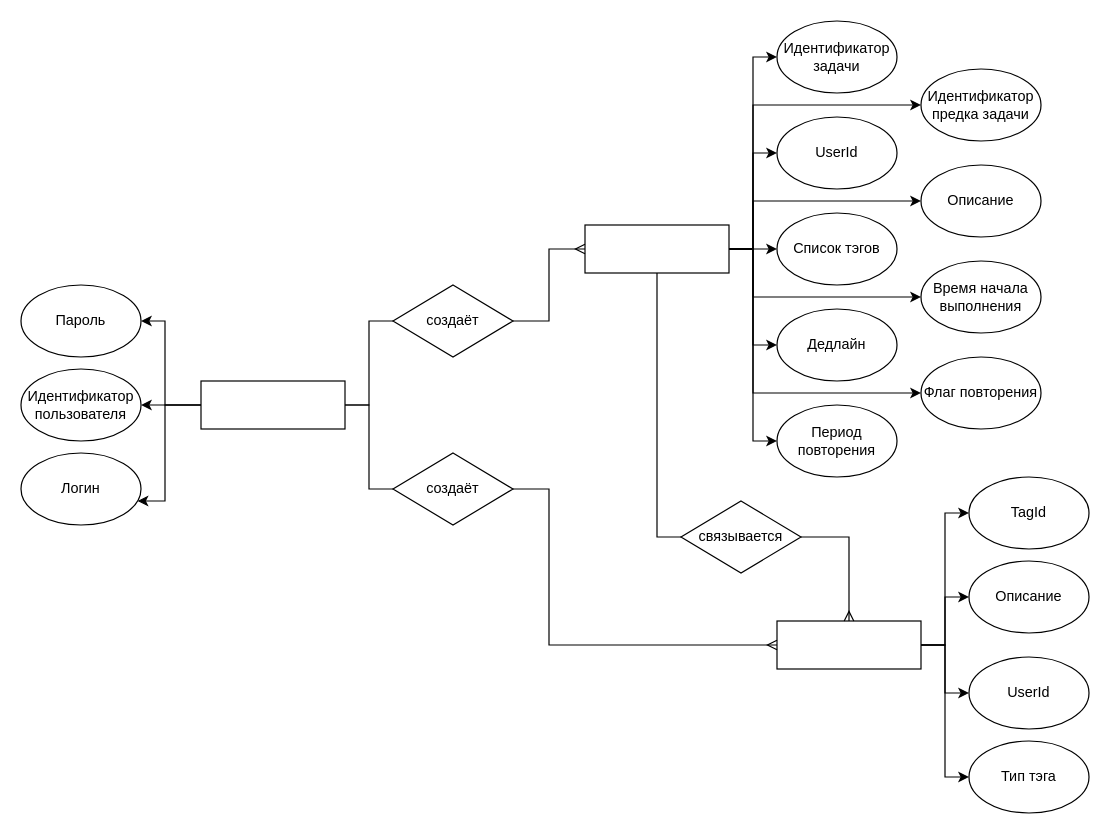
The diagram is 1110 pixels wide and 834 high, and some of its shapes have lost their labels. Here are the shapes that lost their labels. From the top down, the centre of each, then its label:
At [656,248]: "Задача".
At [272,404]: "Пользователь".
At [848,644]: "Тэг".
